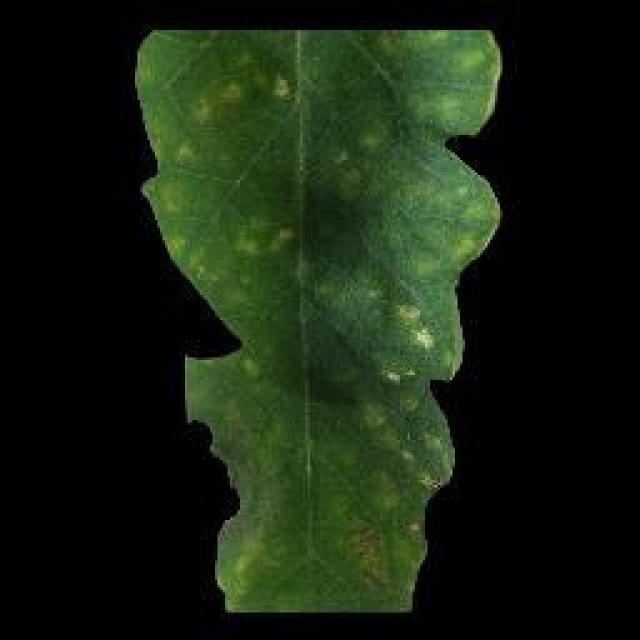Tomato Late Blight: (164, 25, 518, 585)
